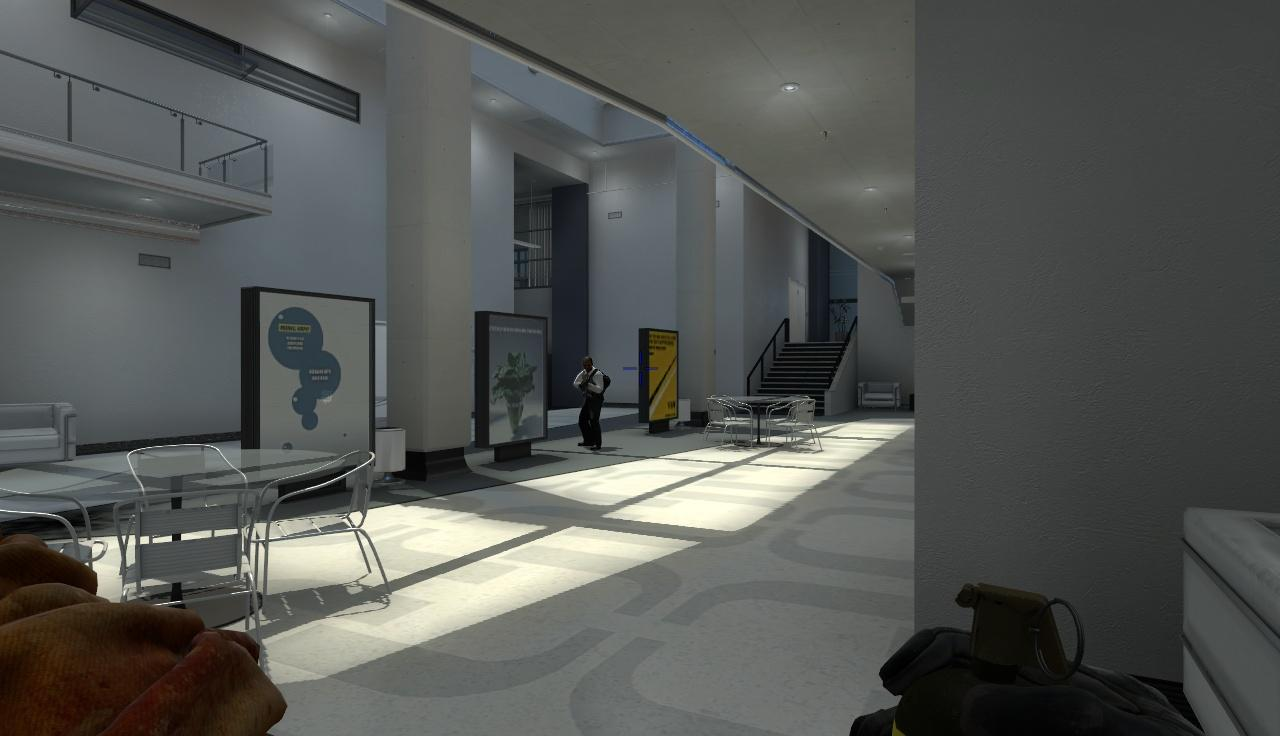tt: (577, 357, 605, 450)
tthead: (583, 357, 592, 370)
